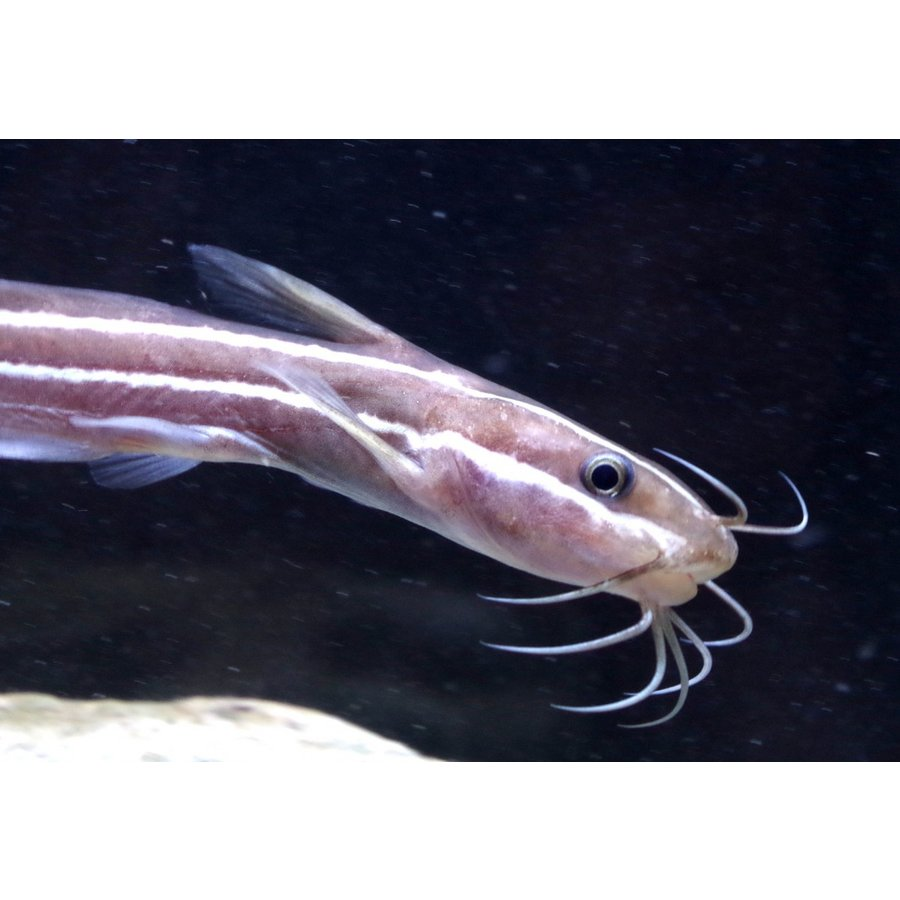gonzui: (1, 211, 814, 700)
